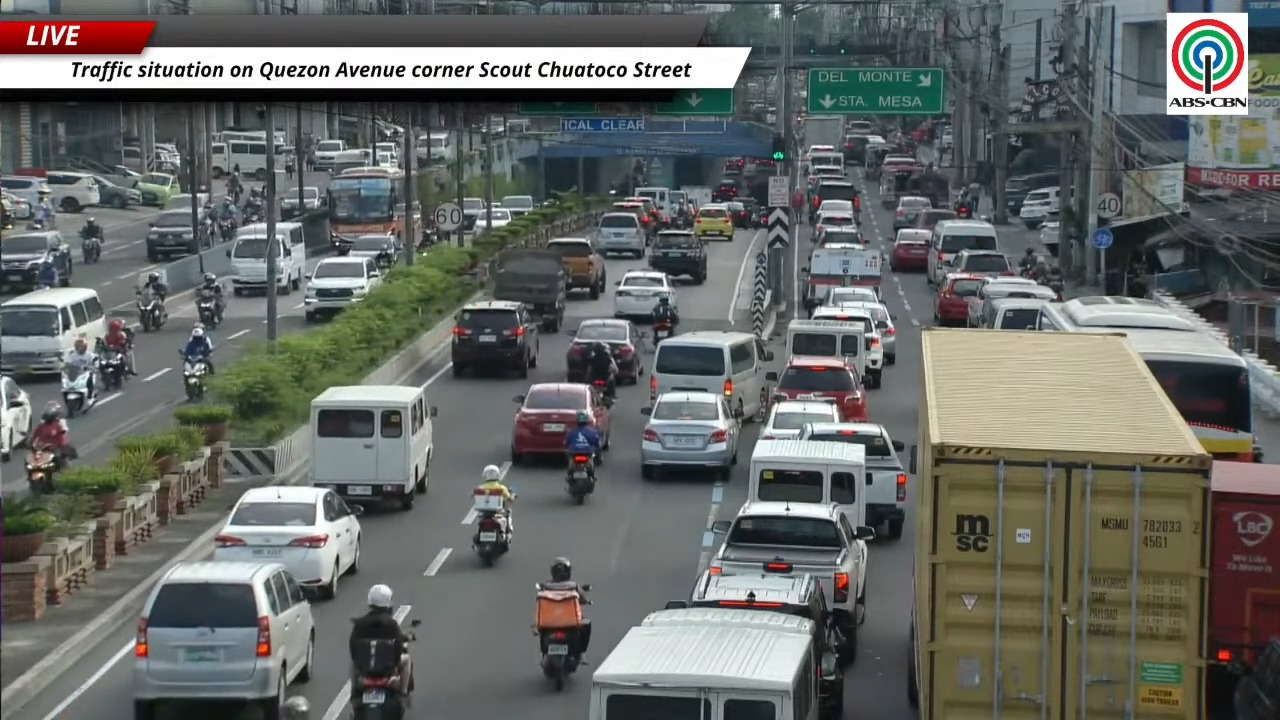bus: (1037, 296, 1254, 461), (327, 167, 411, 249), (211, 140, 266, 180), (210, 129, 265, 142)
car: (132, 561, 315, 719), (213, 485, 362, 598), (799, 423, 906, 538), (641, 391, 740, 480), (510, 382, 611, 463), (451, 300, 538, 377), (766, 356, 867, 421), (812, 303, 885, 388), (566, 318, 643, 383), (304, 257, 381, 321), (967, 276, 1060, 327), (0, 230, 72, 289), (546, 237, 606, 298), (838, 300, 895, 364), (759, 397, 840, 438), (22, 170, 100, 212), (145, 209, 203, 262), (649, 230, 707, 283), (613, 270, 677, 317), (0, 376, 32, 461), (934, 273, 983, 325), (595, 211, 648, 258), (341, 234, 401, 266), (612, 201, 656, 244), (948, 249, 1015, 276), (889, 228, 930, 271), (1018, 186, 1059, 229), (91, 175, 140, 208), (134, 172, 181, 206), (0, 176, 47, 207), (280, 186, 325, 218), (693, 205, 733, 240), (893, 195, 931, 231), (624, 196, 660, 229), (822, 286, 879, 306), (813, 227, 867, 247), (813, 212, 856, 235), (913, 208, 957, 230), (1038, 214, 1059, 257), (0, 192, 33, 219), (499, 195, 536, 217), (477, 207, 513, 229), (740, 198, 766, 228), (725, 200, 752, 228), (711, 177, 740, 202), (161, 193, 190, 211), (817, 200, 853, 213)
motorcycle: (535, 584, 589, 690), (351, 641, 404, 719), (472, 488, 509, 566), (61, 364, 97, 417), (566, 453, 595, 504), (25, 448, 57, 494), (137, 289, 166, 331), (99, 348, 126, 391), (183, 356, 207, 401), (196, 289, 220, 328), (652, 320, 674, 348), (199, 217, 217, 247), (82, 235, 100, 263), (591, 377, 615, 397), (217, 217, 236, 241)
truck: (907, 328, 1211, 719), (708, 501, 874, 662), (1205, 461, 1279, 719), (493, 248, 566, 331), (801, 243, 882, 312), (801, 116, 844, 152), (680, 185, 711, 208)
